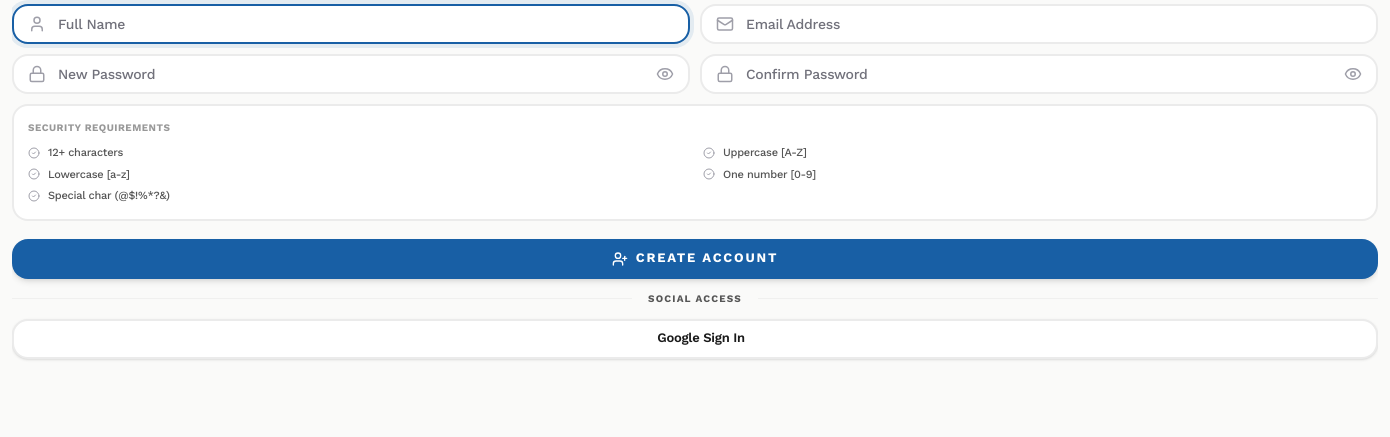
SignUp Component › handles signup submission failure
Type "Test User" into the field labelled "Full Name" at (351, 24), box x1=12 y1=4 x2=690 y2=44
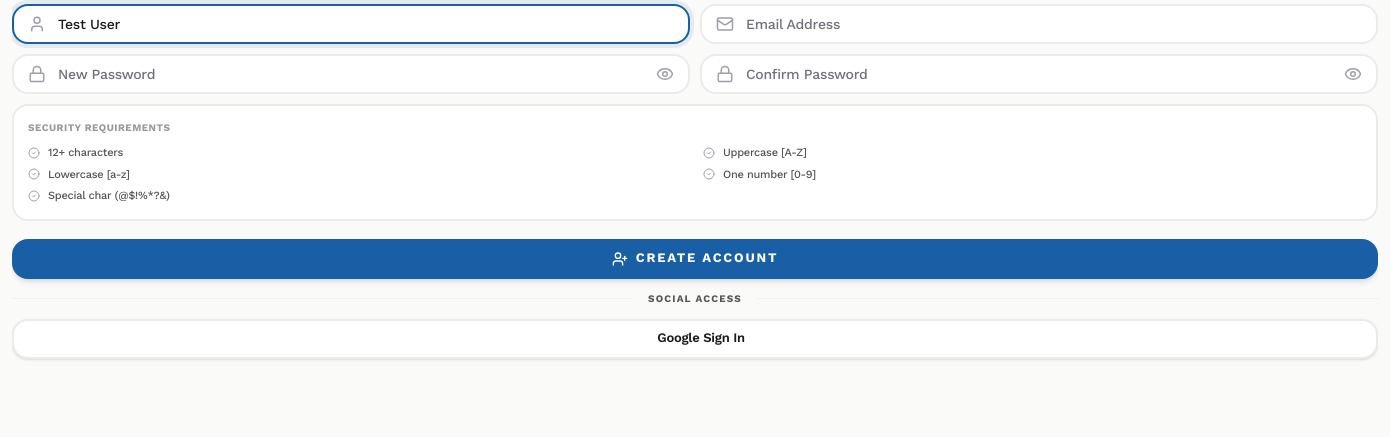
Type "test@example.com" into the field labelled "Email Address" at (1039, 24), box x1=700 y1=4 x2=1378 y2=44
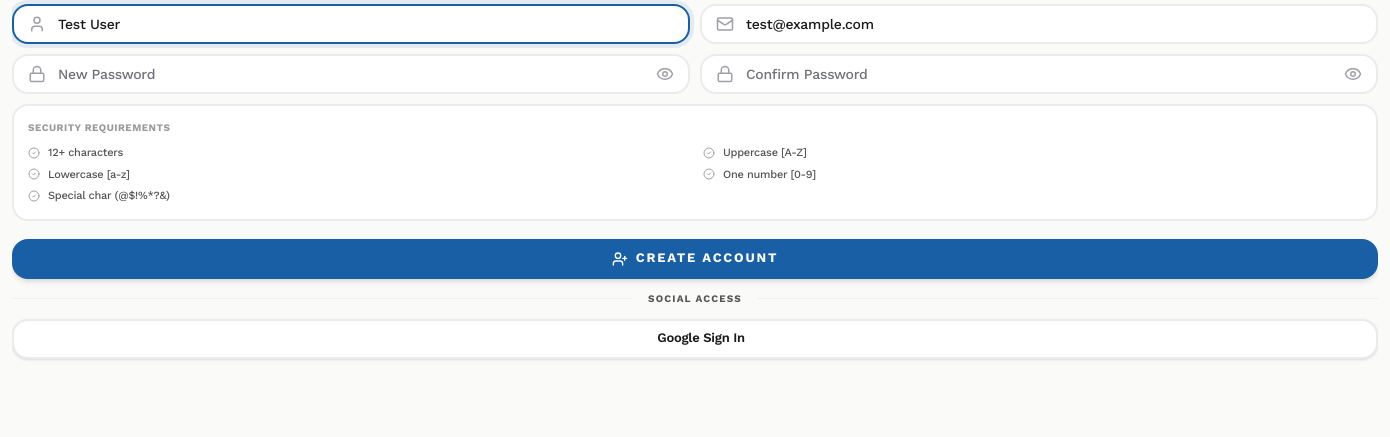
Type "SecurePass123!" into the password field labelled "New Password" at (351, 74), box x1=12 y1=54 x2=690 y2=94
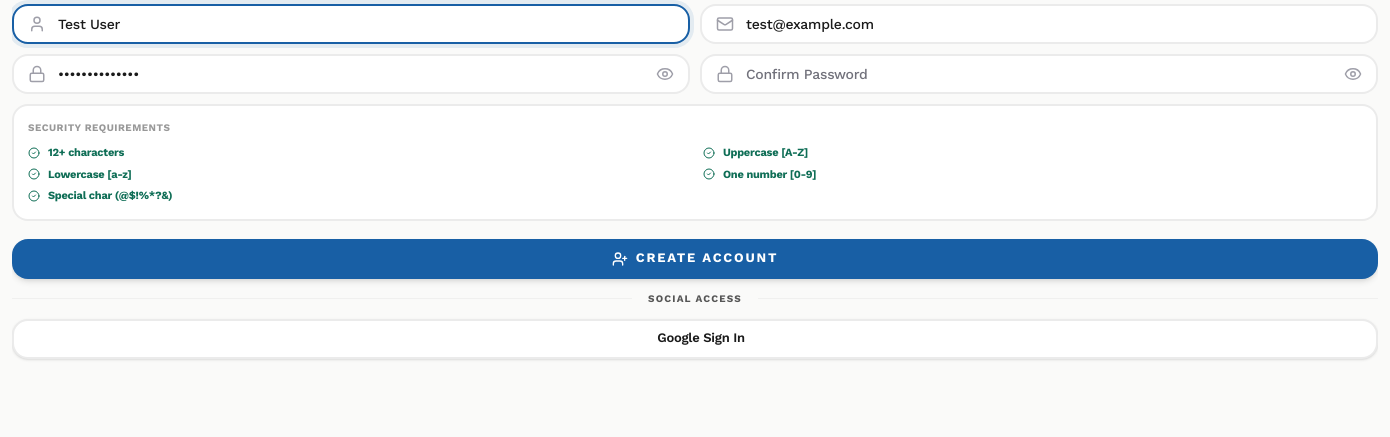
Type "SecurePass123!" into the password field labelled "Confirm Password" at (1039, 74), box x1=700 y1=54 x2=1378 y2=94
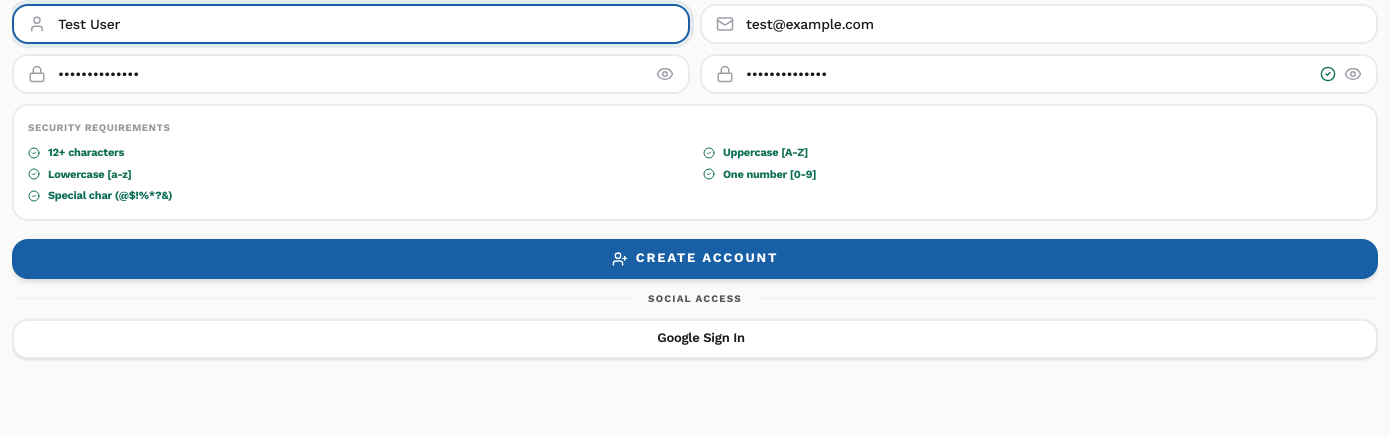
Click the button "Create Account" at (695, 259), box x1=12 y1=239 x2=1378 y2=279
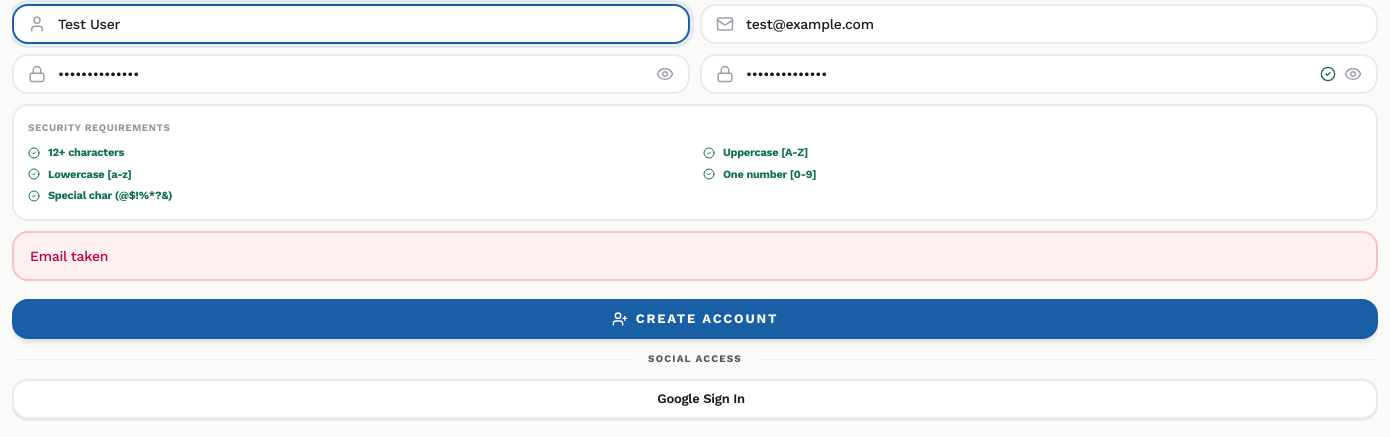
Expected: the text "Email taken" is shown, x1=12 y1=231 x2=1378 y2=281
